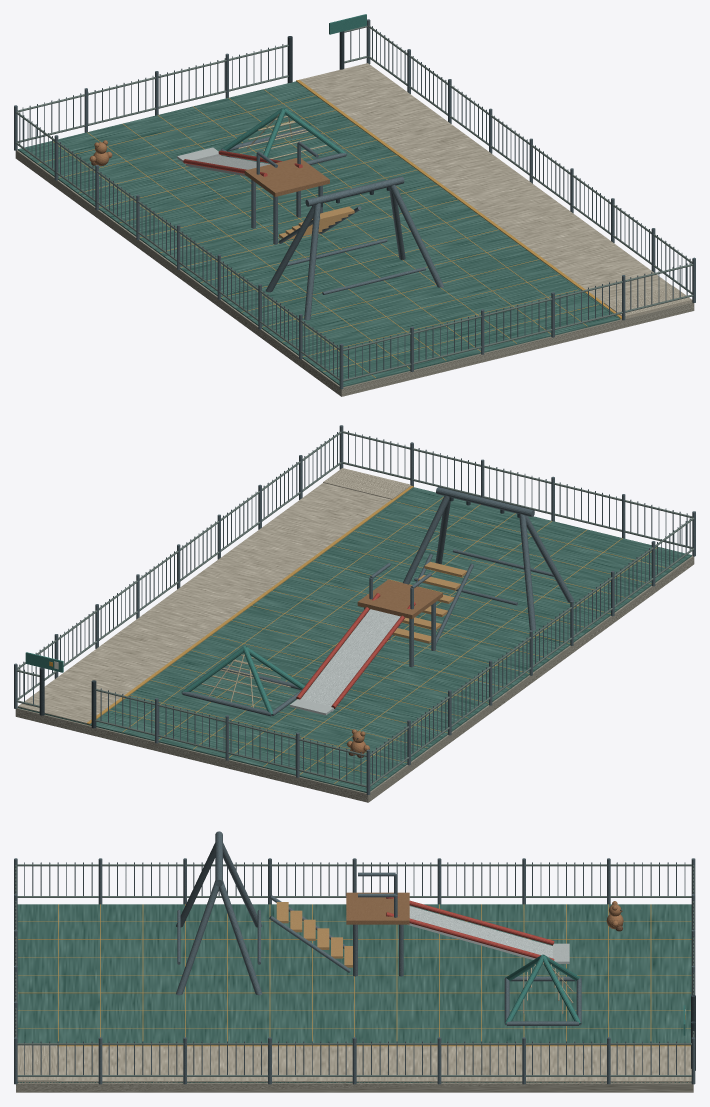
The picture shows the model from 3 angles, top to bottom: view 1: azimuth 30°, elevation 25°; view 2: azimuth 150°, elevation 25°; view 3: azimuth 270°, elevation 25°; orthographic projection. The views are drawn at different scales.
Parts seen in each view (by area): view 1: VIS_safety_layer_001, VIS_paved_path_026, VIS_surface_subgrade_000, VIS_upper_deck_330, VIS_zero_step_gate_landing_028, VIS_rubber_edge_027, VIS_fence_rail_031, VIS_fence_rail_030, VIS_fence_rail_233, VIS_fence_rail_234, VIS_fence_rail_175, VIS_fence_rail_174 (+7 smaller); view 2: VIS_safety_layer_001, VIS_paved_path_026, VIS_surface_subgrade_000, VIS_slide_chute_327, VIS_upper_deck_330, VIS_zero_step_gate_landing_028, VIS_rubber_edge_027, VIS_fence_rail_030, VIS_fence_rail_031, VIS_fence_rail_175, VIS_fence_rail_234, VIS_fence_rail_233 (+9 smaller); view 3: VIS_safety_layer_001, VIS_paved_path_026, VIS_surface_subgrade_000, VIS_slide_chute_327, VIS_fence_rail_234, VIS_fence_rail_031, VIS_upper_deck_330, VIS_zero_step_gate_landing_028, VIS_fence_rail_233, VIS_tile_joint_x_006, VIS_fence_rail_030, VIS_rubber_edge_027 (+17 smaller).
Part boxes in pixels (x1,y1,x2,y2): VIS_safety_layer_001: [18, 81, 620, 386]; VIS_paved_path_026: [299, 63, 671, 302]; VIS_surface_subgrade_000: [15, 149, 694, 396]; VIS_upper_deck_330: [244, 158, 329, 196]; VIS_zero_step_gate_landing_028: [604, 286, 692, 318]; VIS_rubber_edge_027: [296, 80, 621, 319]; VIS_fence_rail_031: [15, 111, 339, 349]; VIS_fence_rail_030: [15, 142, 339, 380]; VIS_fence_rail_233: [368, 56, 692, 294]; VIS_fence_rail_234: [368, 25, 692, 263]; VIS_fence_rail_175: [343, 264, 693, 350]; VIS_fence_rail_174: [343, 294, 693, 381]; VIS_safety_layer_001: [18, 487, 691, 792]; VIS_paved_path_026: [18, 483, 391, 724]; VIS_surface_subgrade_000: [15, 555, 694, 802]; VIS_slide_chute_327: [301, 609, 400, 711]; VIS_upper_deck_330: [357, 579, 442, 618]; VIS_zero_step_gate_landing_028: [323, 468, 411, 499]; VIS_rubber_edge_027: [87, 486, 413, 724]; VIS_fence_rail_030: [370, 548, 694, 786]; VIS_fence_rail_031: [370, 517, 694, 755]; VIS_fence_rail_175: [342, 431, 692, 518]; VIS_fence_rail_234: [17, 431, 341, 669]; VIS_fence_rail_233: [17, 462, 341, 699]; VIS_safety_layer_001: [17, 904, 691, 1082]; VIS_paved_path_026: [17, 1046, 691, 1082]; VIS_surface_subgrade_000: [16, 1083, 693, 1092]; VIS_slide_chute_327: [407, 906, 552, 959]; VIS_fence_rail_234: [17, 1043, 691, 1045]; VIS_fence_rail_031: [17, 864, 691, 866]; VIS_upper_deck_330: [346, 892, 409, 924]; VIS_zero_step_gate_landing_028: [17, 1045, 56, 1082]; VIS_fence_rail_233: [17, 1075, 691, 1076]; VIS_tile_joint_x_006: [18, 992, 690, 993]; VIS_fence_rail_030: [17, 896, 691, 897]; VIS_rubber_edge_027: [57, 1045, 690, 1046].
Size of the model in its own units: 10.08 by 2.98 by 16.1.
Materials: 18 (18 with a texture image).
